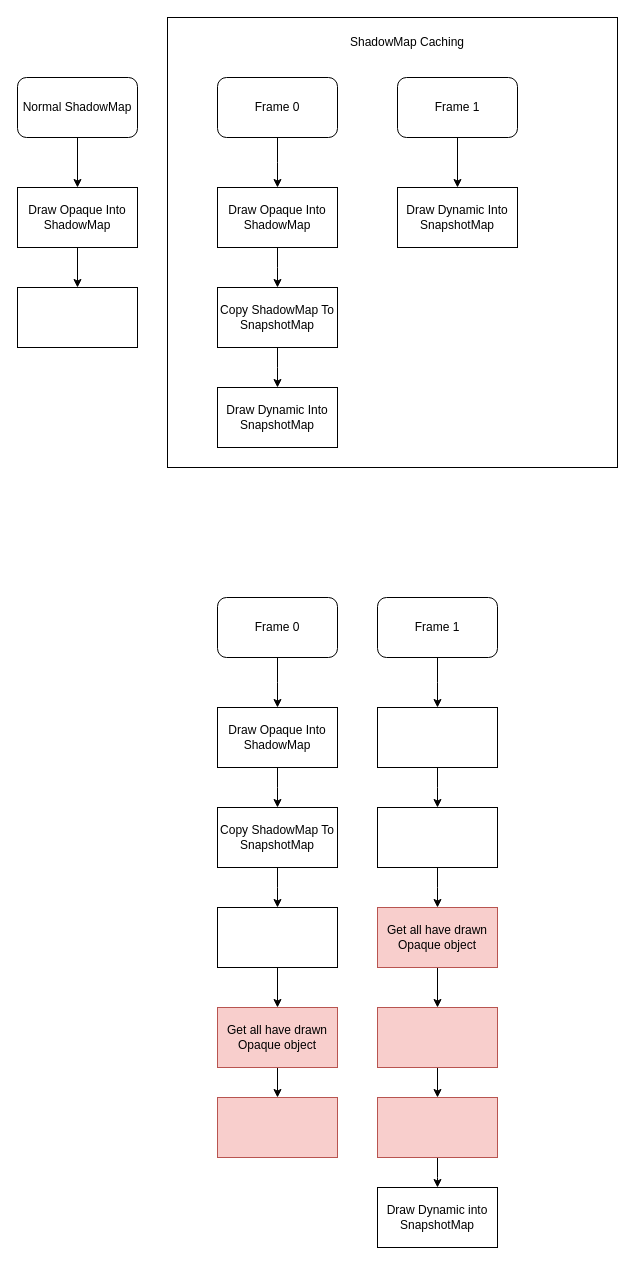
Some shapes in this 635 by 1265 pixel diagram are drawn without their labels. The centre of each missing label's shape, as x and y in pixels:
Backup Opaque object: (x=277, y=1127)
BackUp ShadowCamera Pos Rot: (x=277, y=937)
Calc ShadowCameraOffset: (x=437, y=737)
Diff Object = All Opaque Object - Backup Opaque Object: (x=437, y=1037)
Draw Diff Opaque Into SnapshotMap: (x=437, y=1127)
Draw Dynamic Into ShadowMap: (x=77, y=317)
Scrolling SnapshotMap: (x=437, y=837)
